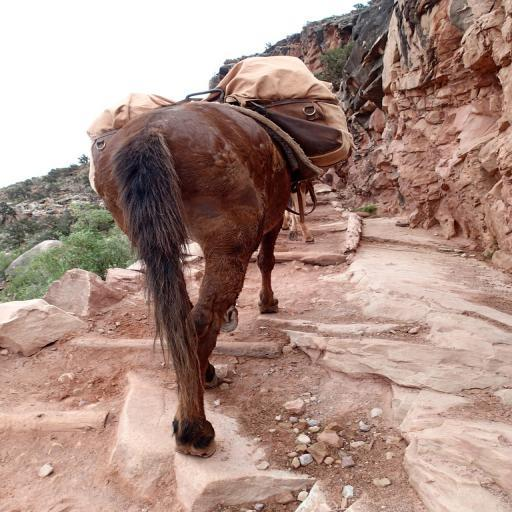Horse: (90, 98, 299, 460), (280, 189, 315, 244)
